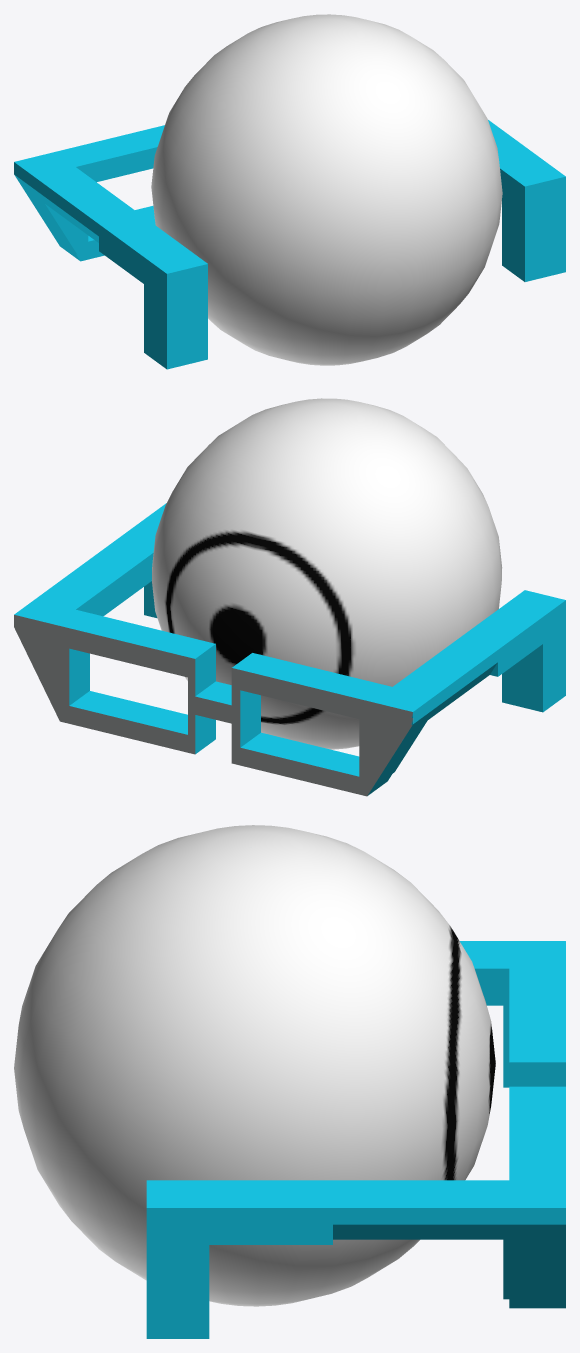
File: mob.obj
3 views of the same model, one above another, from view 1: azimuth 30°, elevation 25°; view 2: azimuth 150°, elevation 25°; view 3: azimuth 270°, elevation 25° (orthographic). The views are drawn at different scales.
Parts seen in each view (by area): view 1: 球, 立方体; view 2: 球, 立方体; view 3: 球, 立方体.
Boxes of the visible parts, left/top/right/bottom form: 球: left=151, top=14, right=502, bottom=365; 立方体: left=14, top=120, right=565, bottom=369; 球: left=151, top=398, right=502, bottom=749; 立方体: left=14, top=503, right=565, bottom=796; 球: left=14, top=825, right=495, bottom=1306; 立方体: left=146, top=941, right=565, bottom=1338.
Size of the model in its own units: 2.62 by 2 by 2.29.
